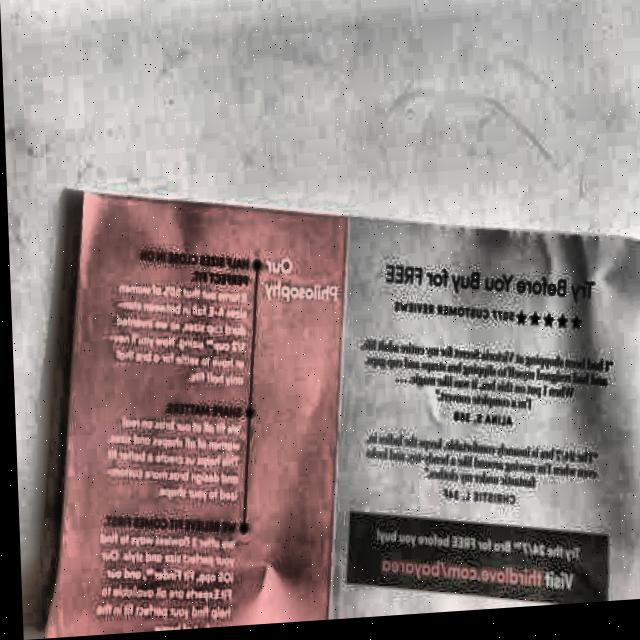paper: (29, 157, 640, 639)
